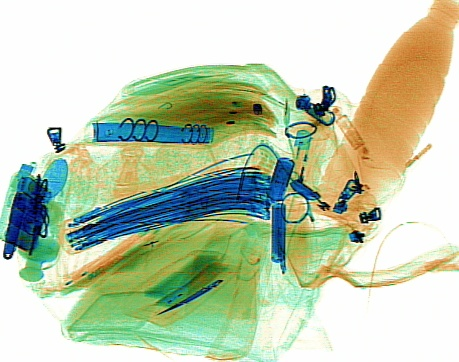lighter: (287, 127, 312, 196)
